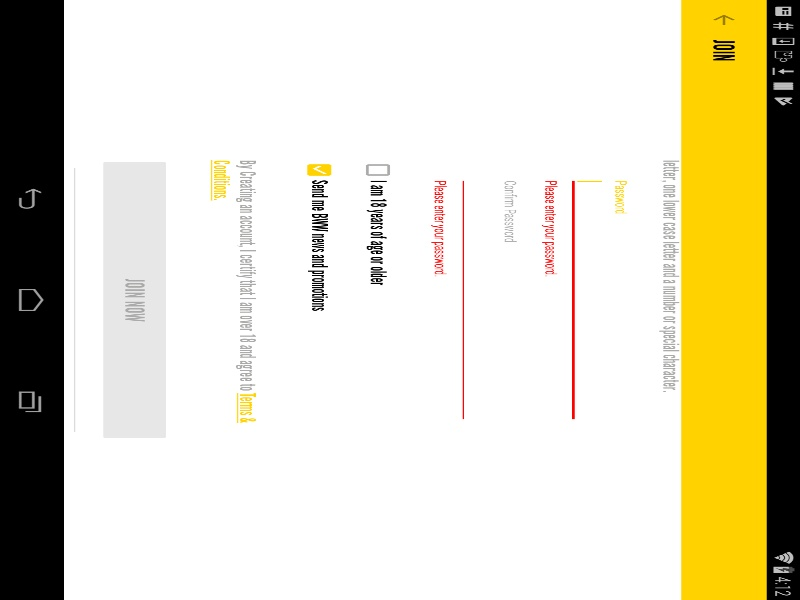Button: (0, 15, 85, 55)
